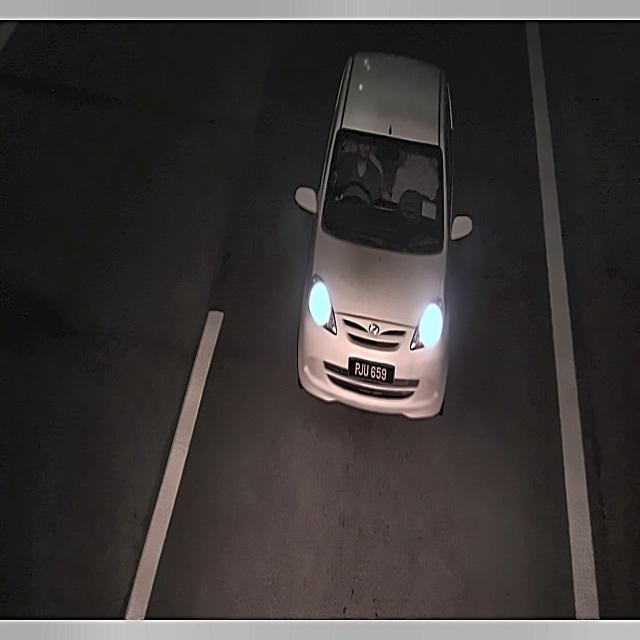car: (344, 353, 402, 389)
